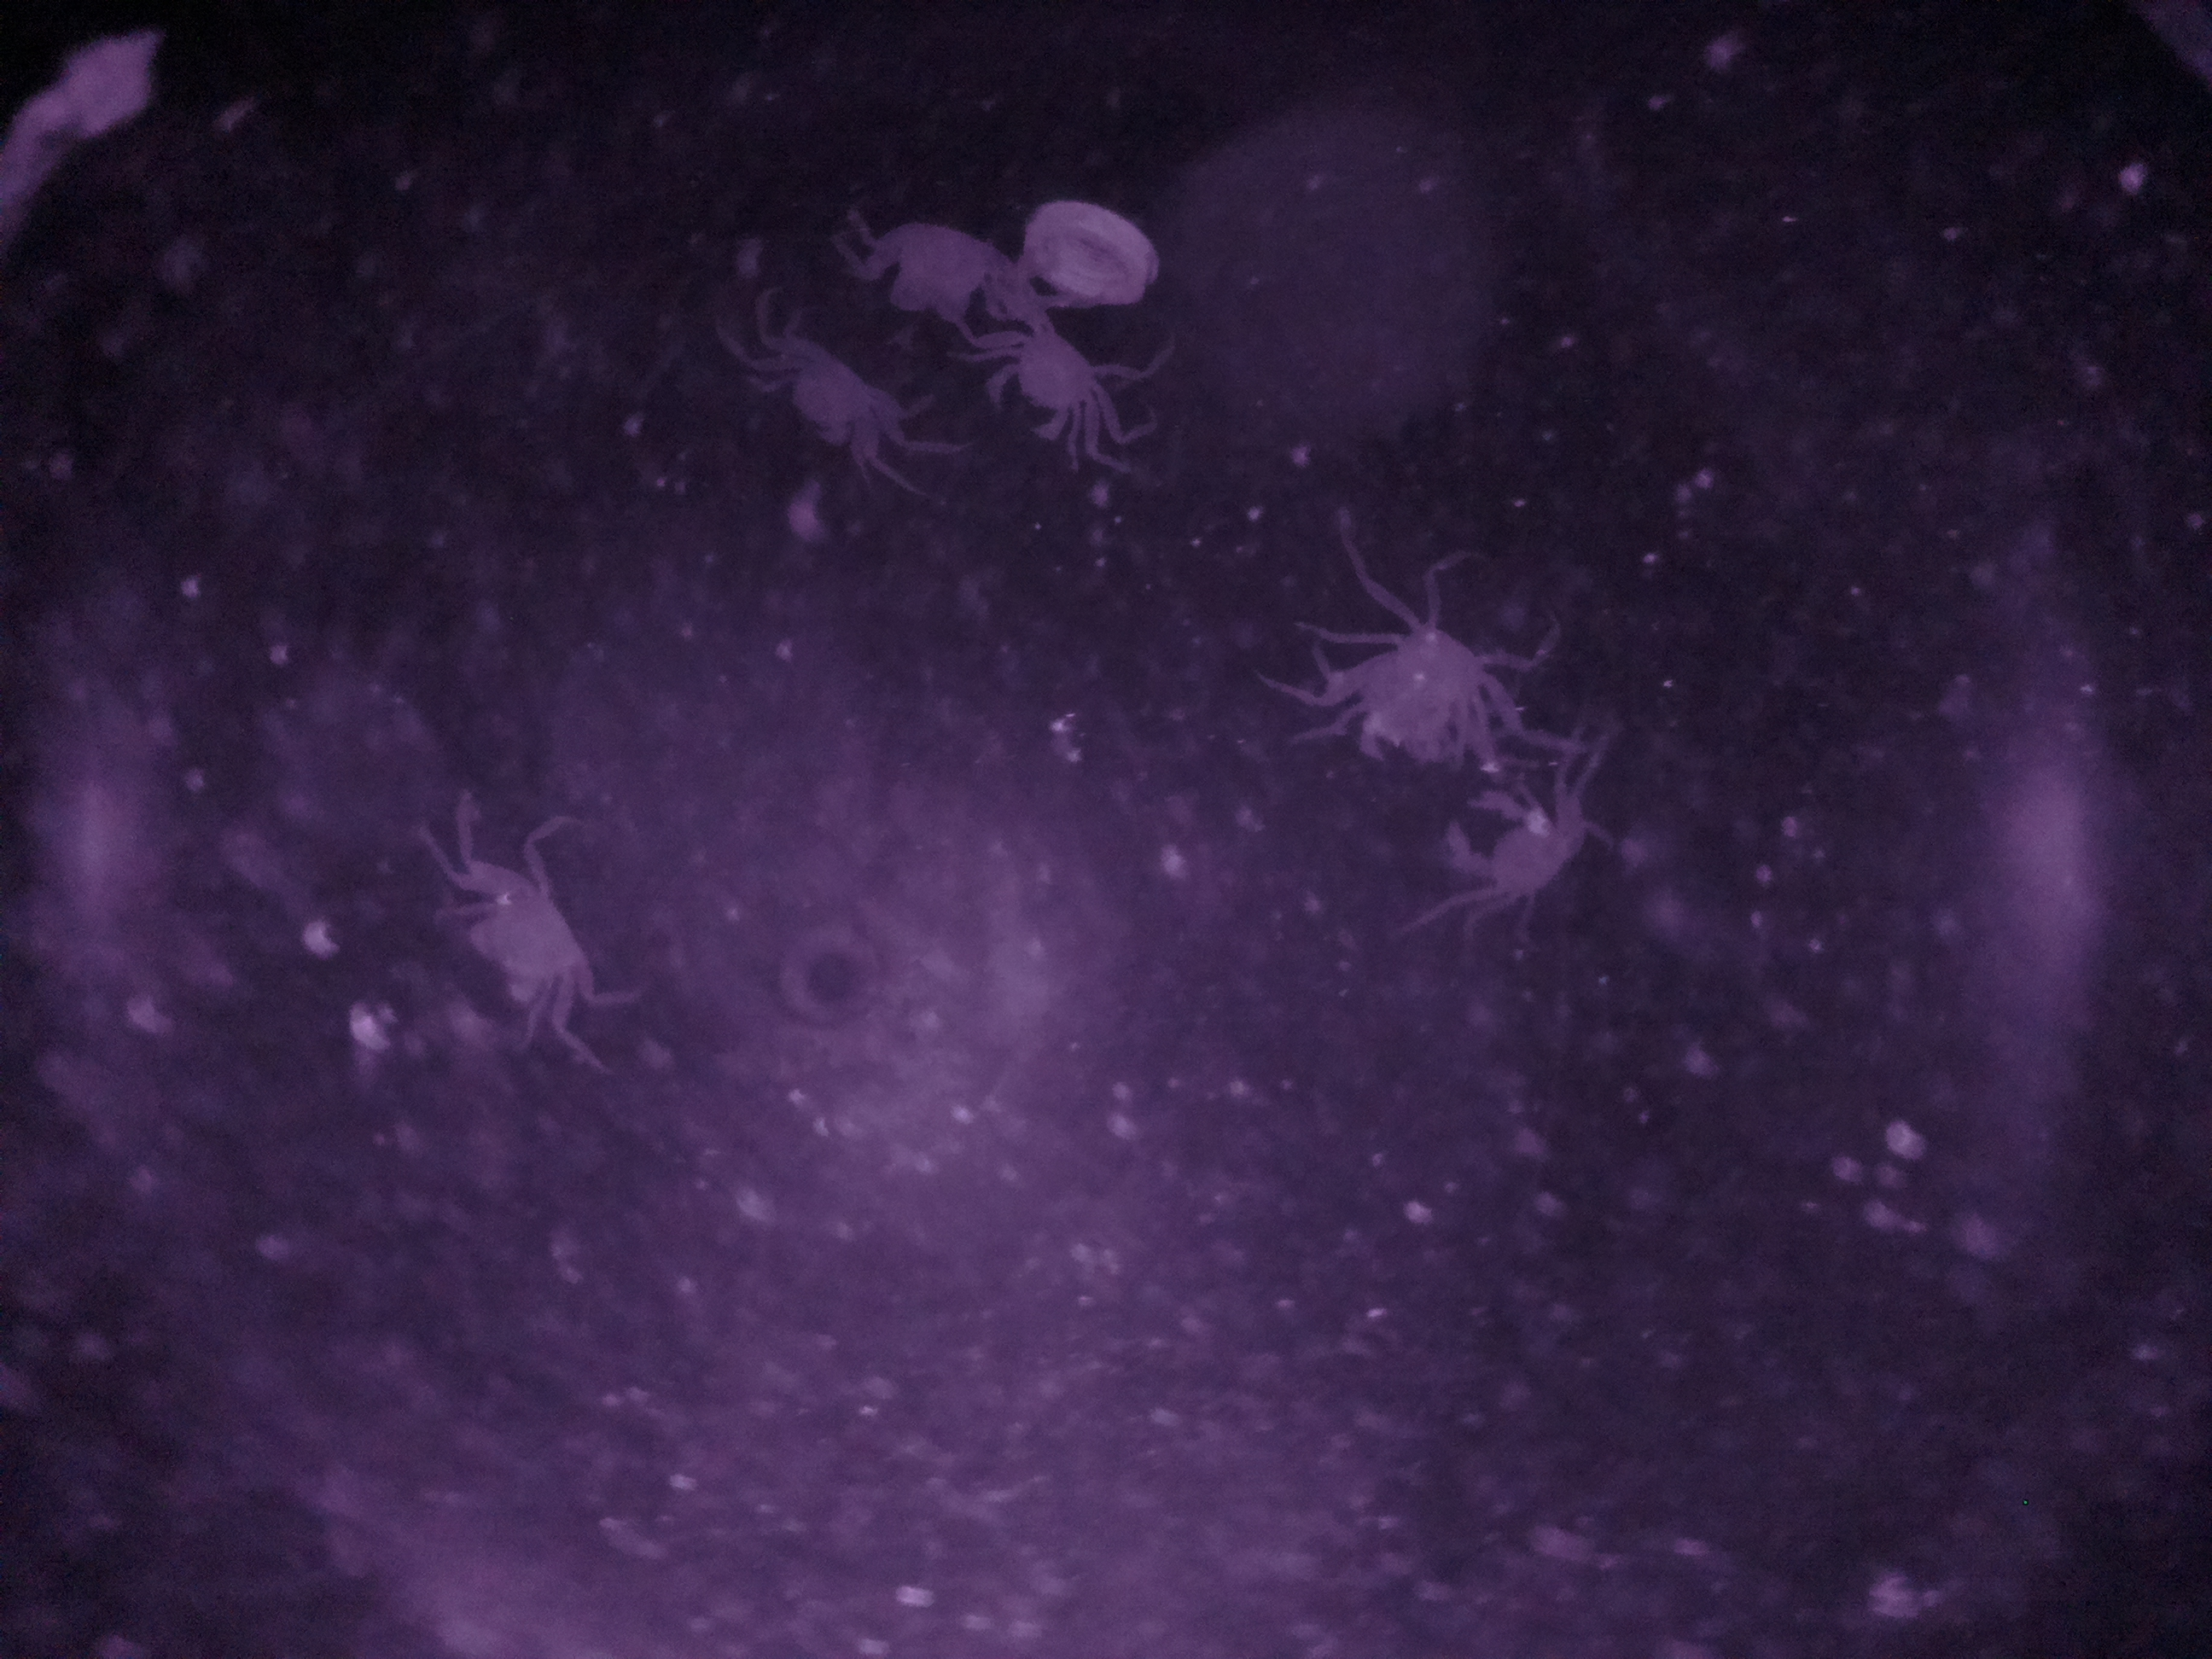Crab: (441, 819, 611, 1035), (1404, 760, 1604, 932), (972, 296, 1144, 457), (752, 310, 906, 472)
